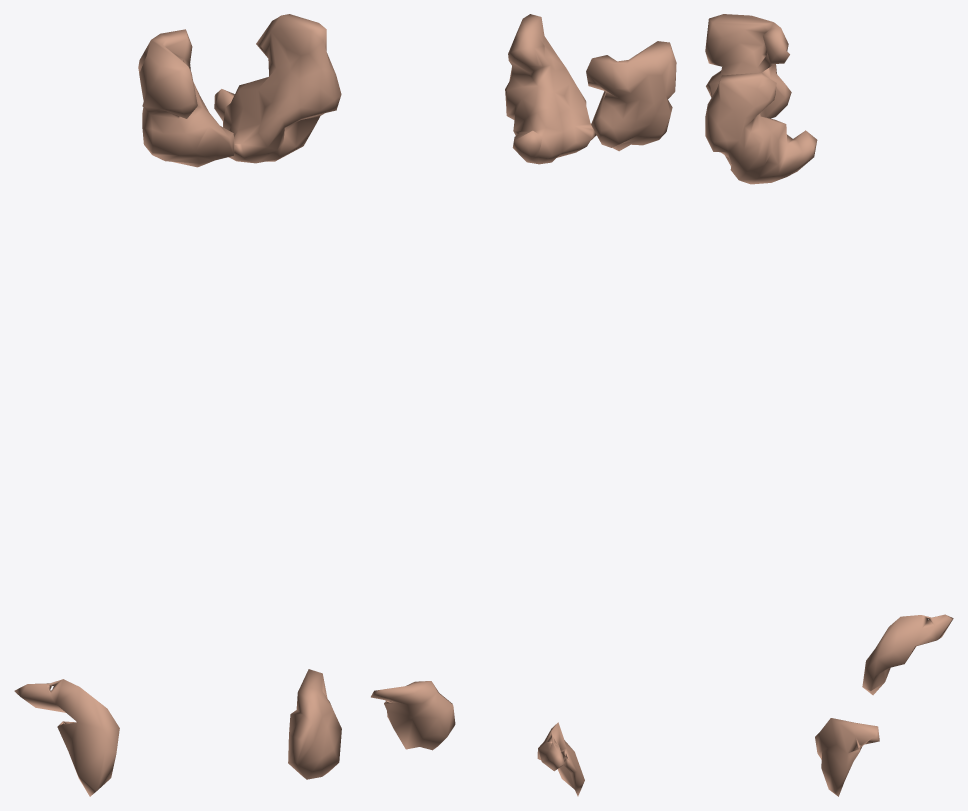
Rendered from tsd_s0327_older_adult_male.endocrine.LOD3.glb.
The picture shows the model from 3 angles, left to right: view 1: azimuth 30°, elevation 25°; view 2: azimuth 150°, elevation 25°; view 3: azimuth 270°, elevation 25°; orthographic projection. The views are drawn at different scales.
Parts seen in each view (by area): view 1: TSD_S0327.OLDER_ADULT.MALE.ENDOCRINE.THYROID_GLAND, TSD_S0327.OLDER_ADULT.MALE.ENDOCRINE.ADRENAL_GLAND.R, TSD_S0327.OLDER_ADULT.MALE.ENDOCRINE.ADRENAL_GLAND.L; view 2: TSD_S0327.OLDER_ADULT.MALE.ENDOCRINE.THYROID_GLAND, TSD_S0327.OLDER_ADULT.MALE.ENDOCRINE.ADRENAL_GLAND.L, TSD_S0327.OLDER_ADULT.MALE.ENDOCRINE.ADRENAL_GLAND.R; view 3: TSD_S0327.OLDER_ADULT.MALE.ENDOCRINE.THYROID_GLAND, TSD_S0327.OLDER_ADULT.MALE.ENDOCRINE.ADRENAL_GLAND.R, TSD_S0327.OLDER_ADULT.MALE.ENDOCRINE.ADRENAL_GLAND.L.
Boxes of the visible parts, x1=… form: TSD_S0327.OLDER_ADULT.MALE.ENDOCRINE.THYROID_GLAND: x1=138, y1=14, x2=341, y2=167; TSD_S0327.OLDER_ADULT.MALE.ENDOCRINE.ADRENAL_GLAND.R: x1=14, y1=679, x2=119, y2=796; TSD_S0327.OLDER_ADULT.MALE.ENDOCRINE.ADRENAL_GLAND.L: x1=288, y1=669, x2=341, y2=779; TSD_S0327.OLDER_ADULT.MALE.ENDOCRINE.THYROID_GLAND: x1=505, y1=14, x2=676, y2=164; TSD_S0327.OLDER_ADULT.MALE.ENDOCRINE.ADRENAL_GLAND.L: x1=371, y1=681, x2=455, y2=750; TSD_S0327.OLDER_ADULT.MALE.ENDOCRINE.ADRENAL_GLAND.R: x1=537, y1=722, x2=584, y2=796; TSD_S0327.OLDER_ADULT.MALE.ENDOCRINE.THYROID_GLAND: x1=705, y1=14, x2=817, y2=184; TSD_S0327.OLDER_ADULT.MALE.ENDOCRINE.ADRENAL_GLAND.R: x1=862, y1=614, x2=953, y2=695; TSD_S0327.OLDER_ADULT.MALE.ENDOCRINE.ADRENAL_GLAND.L: x1=815, y1=718, x2=879, y2=796.
Bounding box in the file's own units: 0.1024 × 0.3 × 0.0985.
